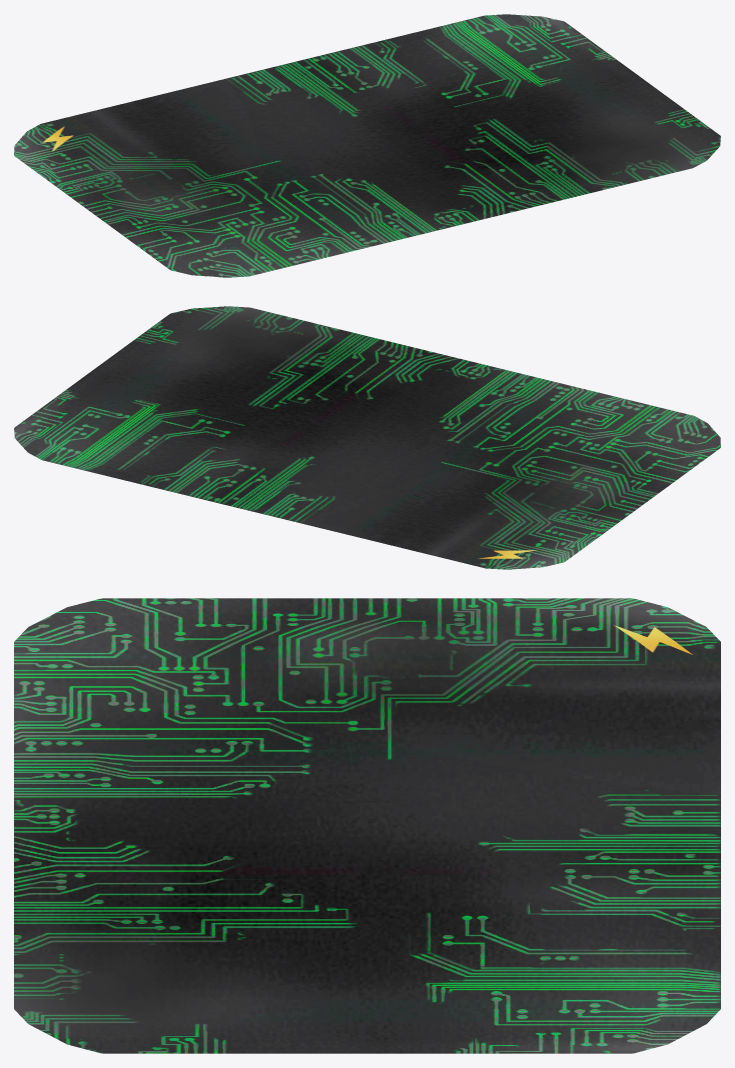
File: black.fbx
3 views of the same model, one above another, from view 1: azimuth 30°, elevation 25°; view 2: azimuth 150°, elevation 25°; view 3: azimuth 270°, elevation 25° (orthographic). The views are drawn at different scales.
Visible parts, largest first — view 1: pPlane1; view 2: pPlane1; view 3: pPlane1.
Part boxes in pixels (x1,y1,x2,y2): pPlane1: (14, 14, 720, 277); pPlane1: (14, 306, 720, 569); pPlane1: (14, 598, 720, 1053).
Size of the model in its own units: 10.59 by 0 by 6.94.
1 material, 1 textured.
